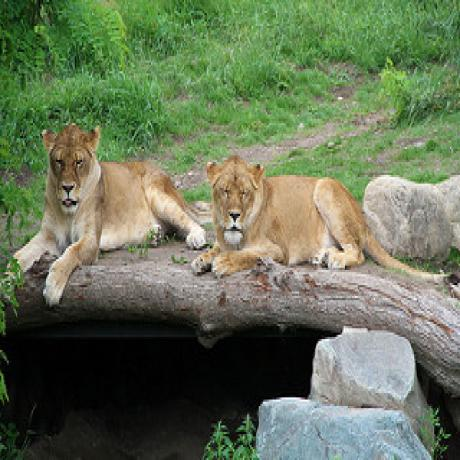Lion: (16, 121, 206, 298), (197, 155, 371, 282)
